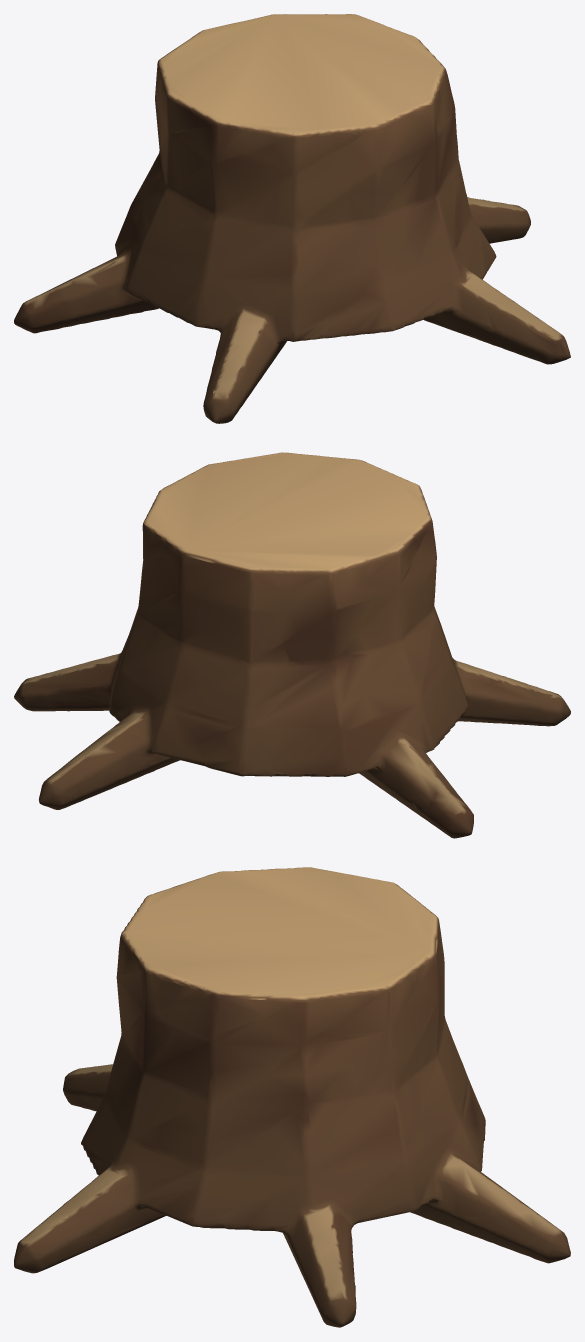
File: stump_large.glb
The picture shows the model from 3 angles, top to bottom: view 1: azimuth 30°, elevation 25°; view 2: azimuth 150°, elevation 25°; view 3: azimuth 270°, elevation 25°; orthographic projection. The views are drawn at different scales.
Visible parts, largest first — view 1: stump_large_LOD0; view 2: stump_large_LOD0; view 3: stump_large_LOD0.
Part boxes in pixels (x1,y1,x2,y2): stump_large_LOD0: [14, 14, 570, 423]; stump_large_LOD0: [14, 452, 570, 838]; stump_large_LOD0: [14, 867, 570, 1327].
Size of what is drawn, in the model's own units: 2.34 by 1.1 by 2.08.
